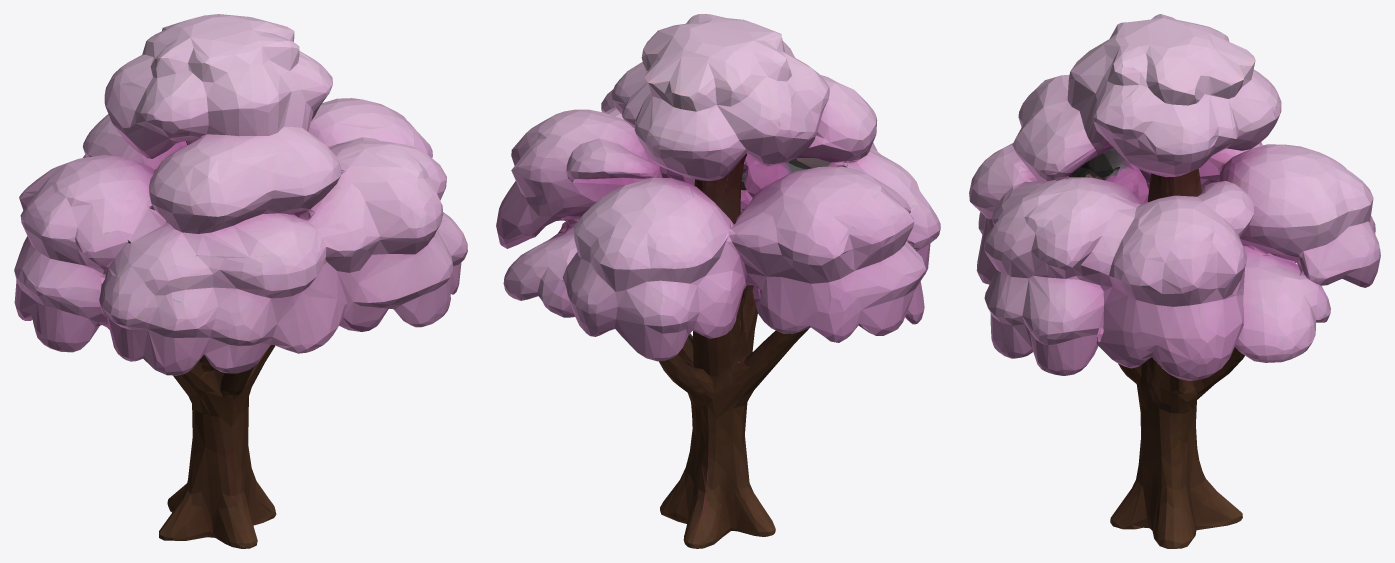
Rendered from pink_tree.glb.
3 renders of one model, left to right at view 1: azimuth 30°, elevation 25°; view 2: azimuth 150°, elevation 25°; view 3: azimuth 270°, elevation 25°, orthographic. The views are drawn at different scales.
Visible parts, largest first — view 1: geometry_0; view 2: geometry_0; view 3: geometry_0.
Part boxes in pixels (x1,y1,x2,y2): geometry_0: (14, 14, 467, 548); geometry_0: (496, 14, 940, 548); geometry_0: (969, 14, 1380, 548).
Size of the model in its own units: 0.8647 by 0.9985 by 0.7619.
Materials: 1 (1 with a texture image).
